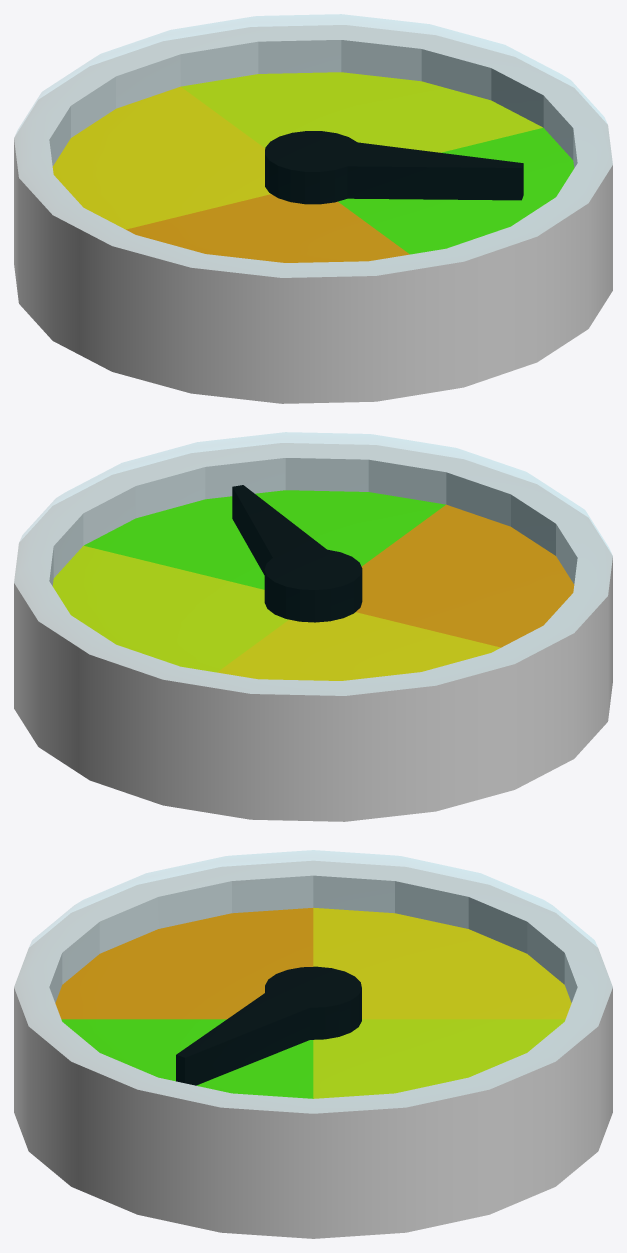
The model's file is VoltmeterMesh.fbx.
3 views of the same model, one above another, from view 1: azimuth 30°, elevation 25°; view 2: azimuth 150°, elevation 25°; view 3: azimuth 270°, elevation 25° (orthographic).
Visible parts, largest first — view 1: pCylinder2, pCylinder3; view 2: pCylinder2, pCylinder3; view 3: pCylinder2, pCylinder3.
Part boxes in pixels (bbox=[...]): pCylinder2: bbox=[14, 25, 612, 403]; pCylinder3: bbox=[265, 131, 523, 204]; pCylinder2: bbox=[14, 443, 612, 821]; pCylinder3: bbox=[232, 485, 362, 622]; pCylinder2: bbox=[14, 860, 612, 1238]; pCylinder3: bbox=[176, 966, 361, 1085].
Bounding box in the file's own units: 2 × 0.6593 × 2.
